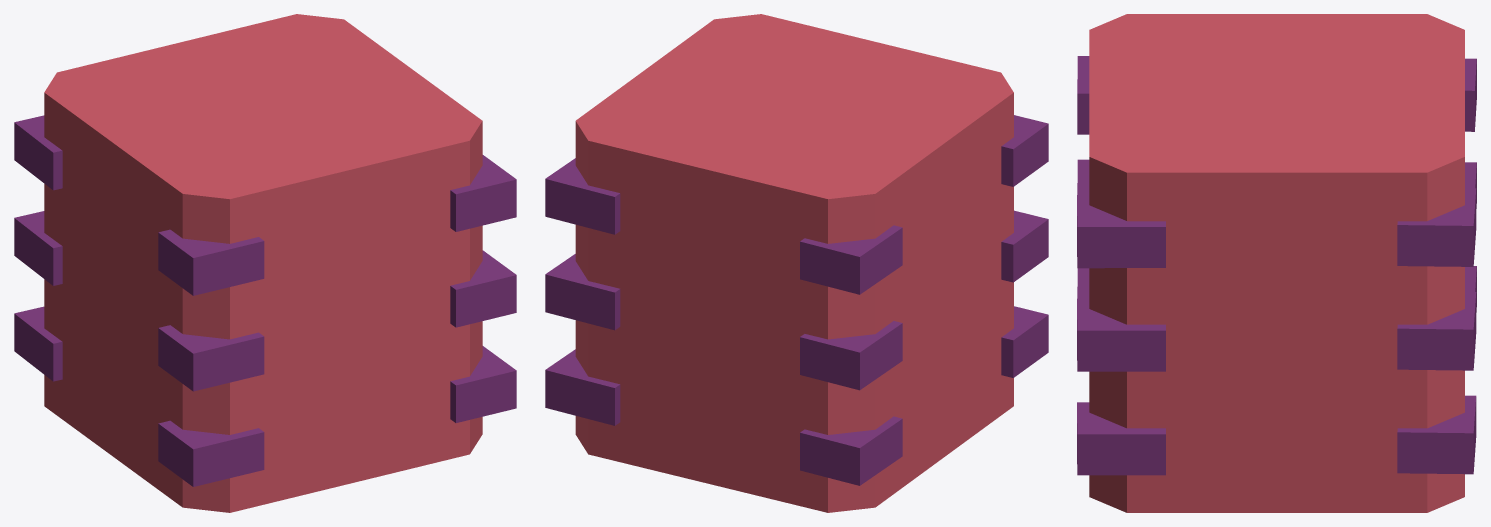
Rendered from 1Generic Center Pinkandpurp.fbx.
3 views of the same model, side by side, from view 1: azimuth 30°, elevation 25°; view 2: azimuth 150°, elevation 25°; view 3: azimuth 270°, elevation 25° (orthographic). The views are drawn at different scales.
Visible parts, largest first — view 1: pCube16; view 2: pCube16; view 3: pCube16.
Boxes of the visible parts, x1=… form: pCube16: x1=14, y1=14, x2=516, y2=512; pCube16: x1=545, y1=14, x2=1048, y2=512; pCube16: x1=1077, y1=14, x2=1476, y2=512.
Size of the model in its own units: 2.16 by 2 by 2.13.
